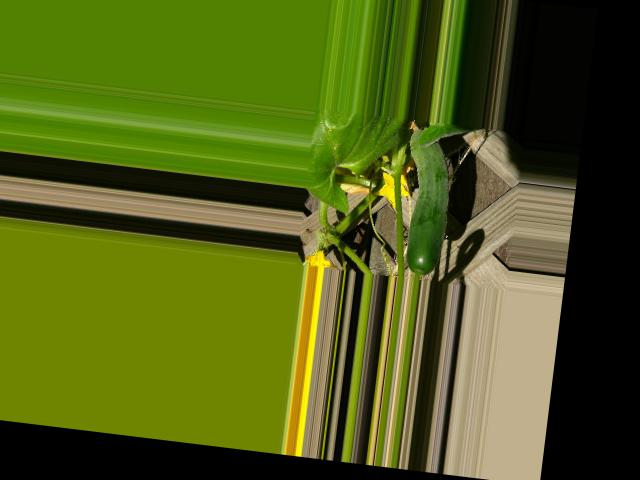cucumber: (394, 120, 459, 275)
